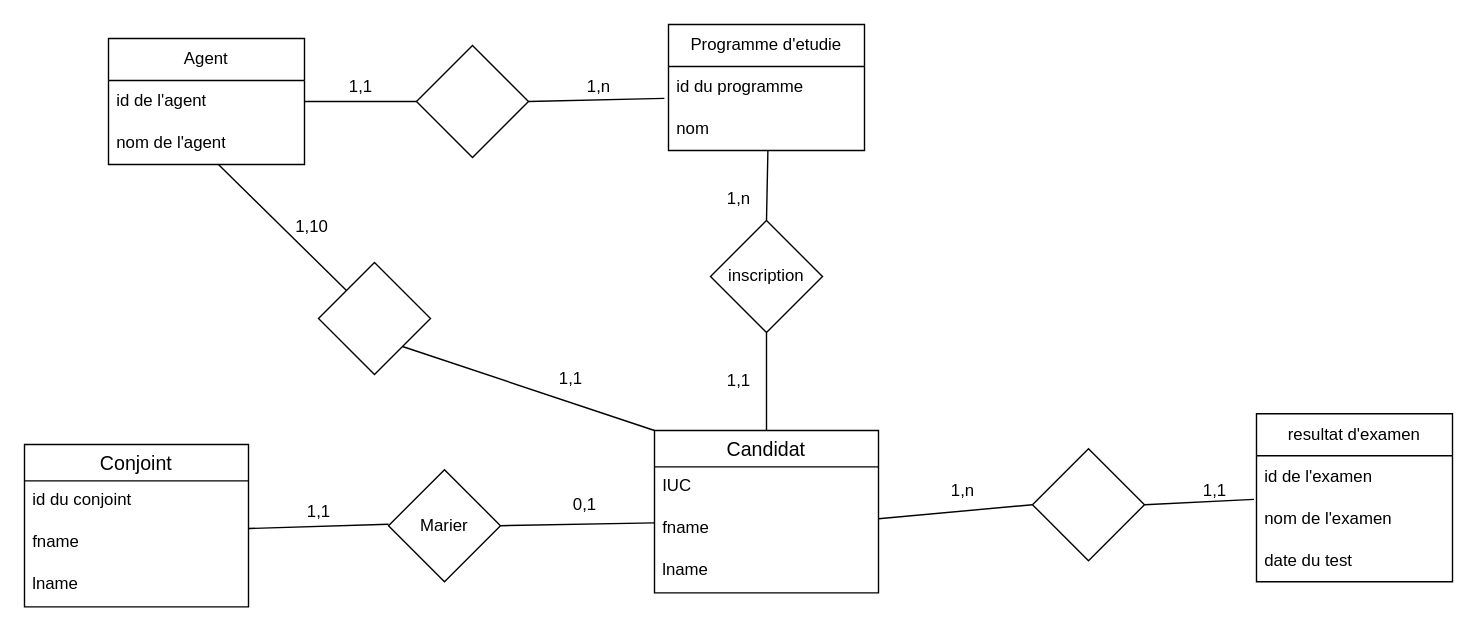
The diagram is 1477 pixels wide and 636 high, and some of its shapes have lost their labels. Each missing label, with the centre of its shape:
"effectuer" goes at (x=1087, y=504).
"evalue" goes at (x=373, y=317).
"travail pour" goes at (x=471, y=101).
